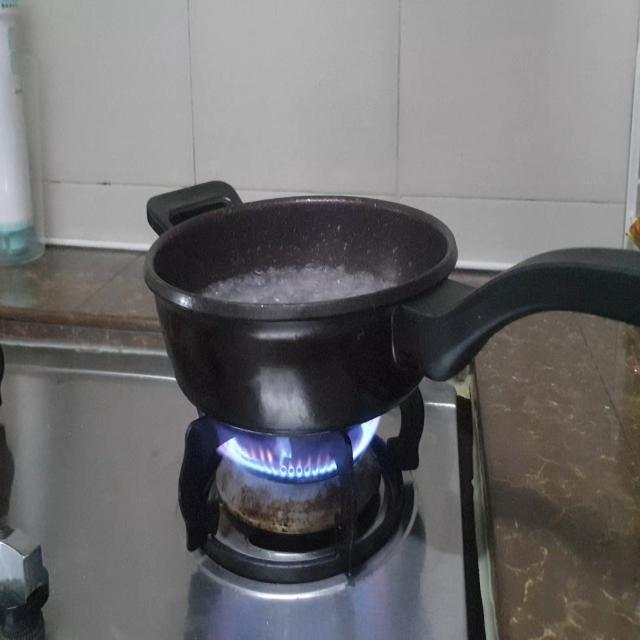fire: (213, 409, 383, 480)
